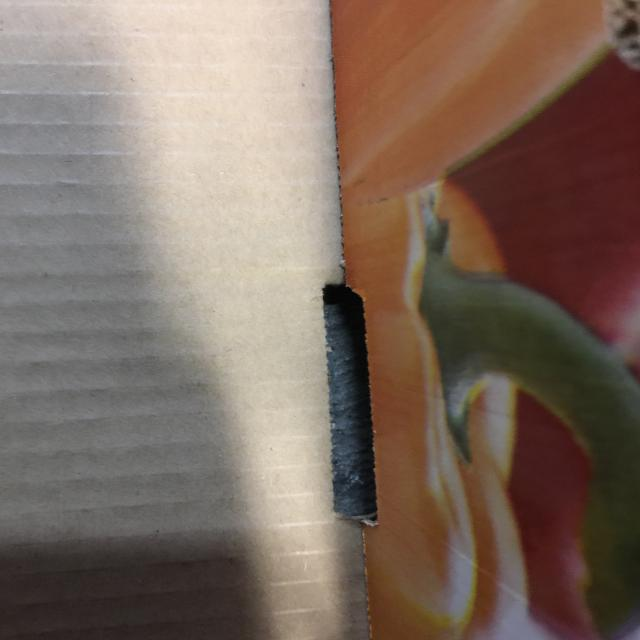cardboard: (0, 0, 370, 640), (329, 0, 640, 639)
